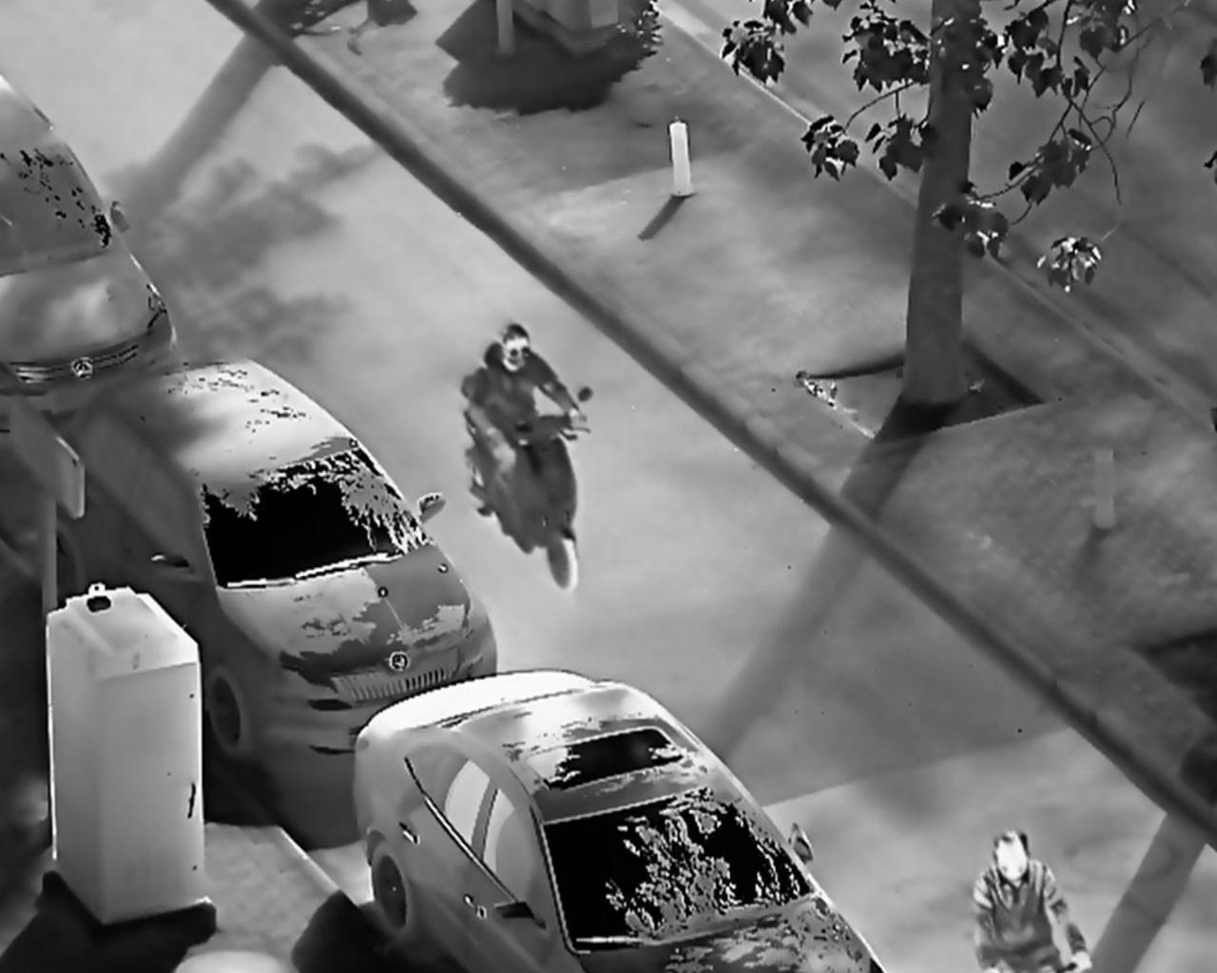person: (470, 318, 587, 495), (969, 828, 1095, 973)
